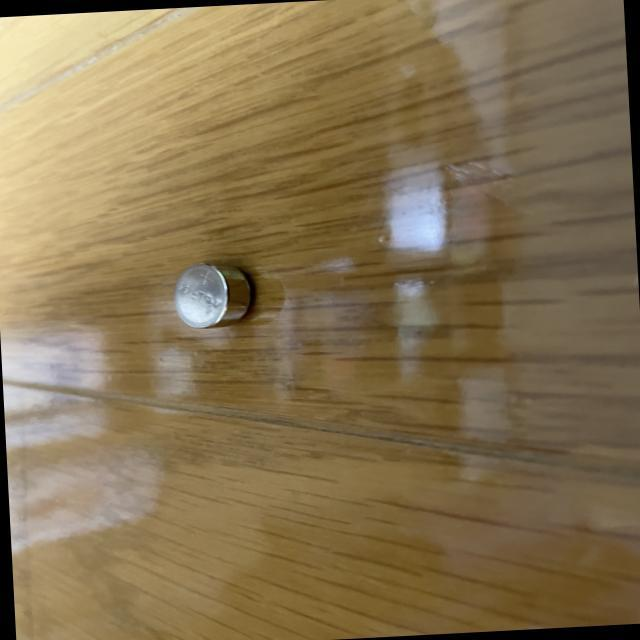COIN: (172, 260, 256, 330)
